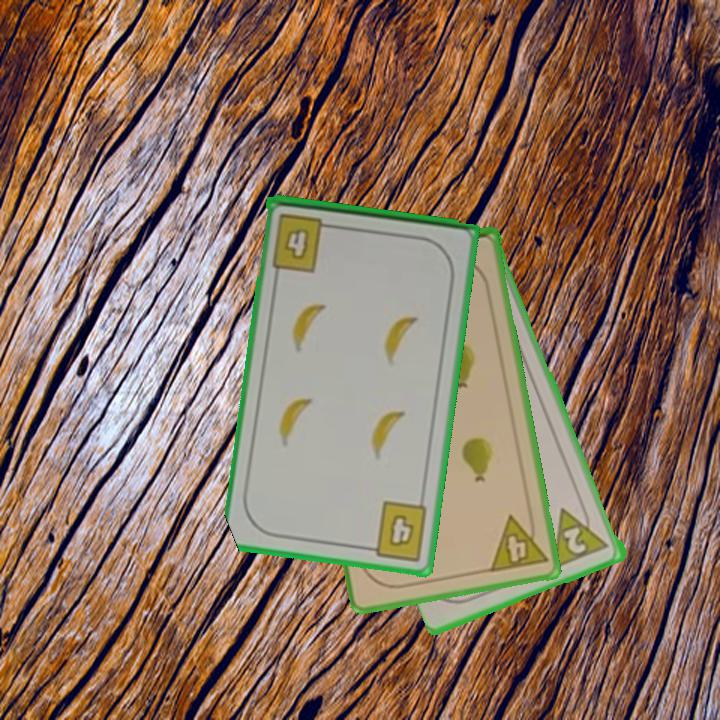2p: (550, 499, 612, 571)
4b: (361, 497, 431, 564), (269, 209, 338, 275)
4p: (486, 508, 550, 575)
